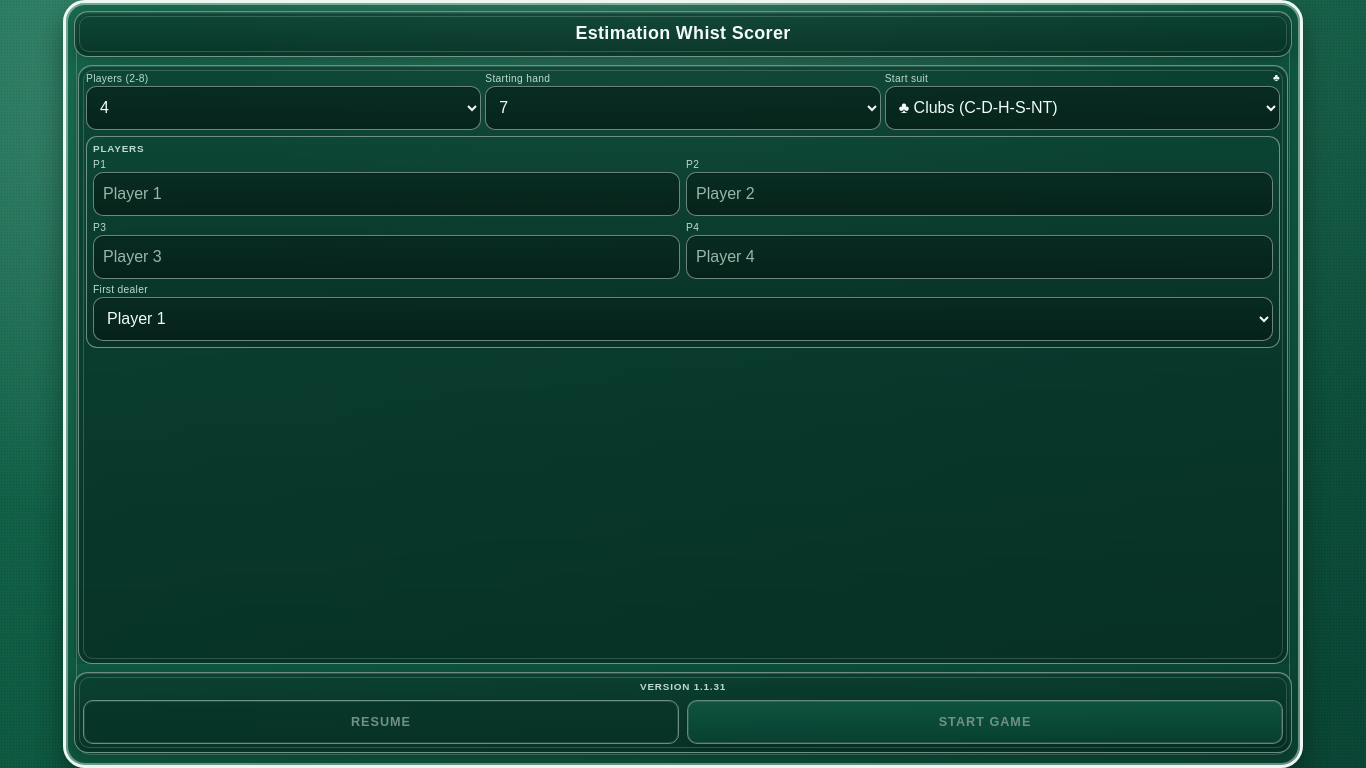
Test: App › renames the bidding back button to Undo
Type "Tom" into the field labelled "P1".
click(386, 194); type("Tom")  # box [93,172,680,216]
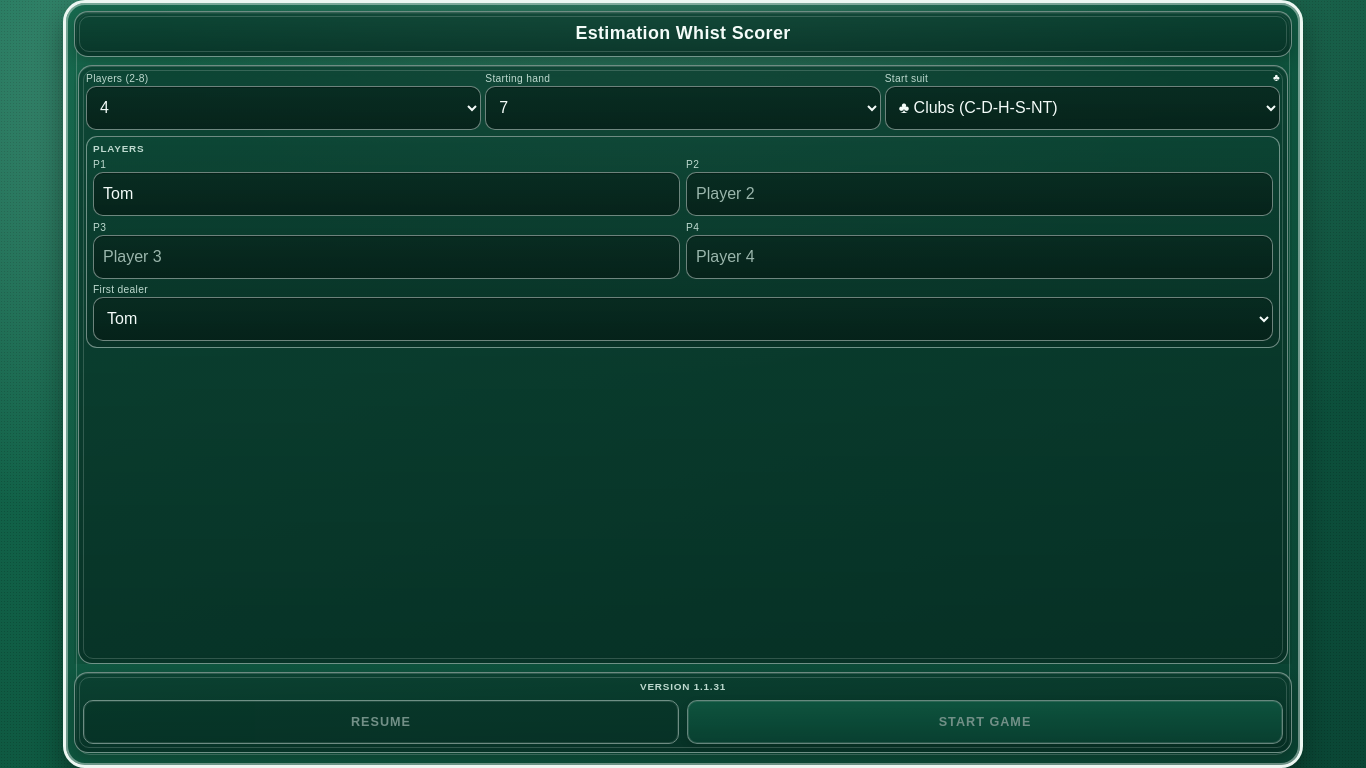
Type "Jane" into the field labelled "P2".
click(980, 194); type("Jane")  # box [686,172,1273,216]
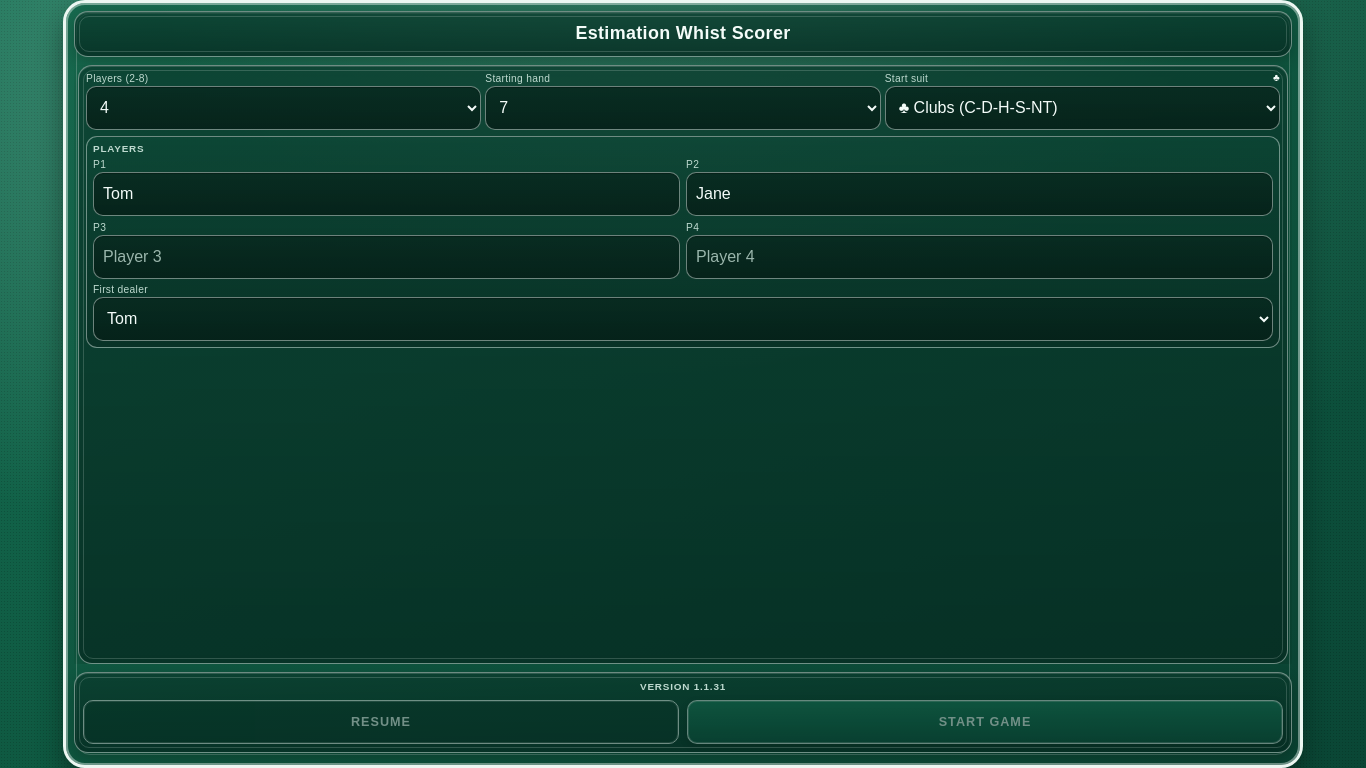
Type "Tristan" into the field labelled "P3".
click(386, 256); type("Tristan")  # box [93,234,680,278]
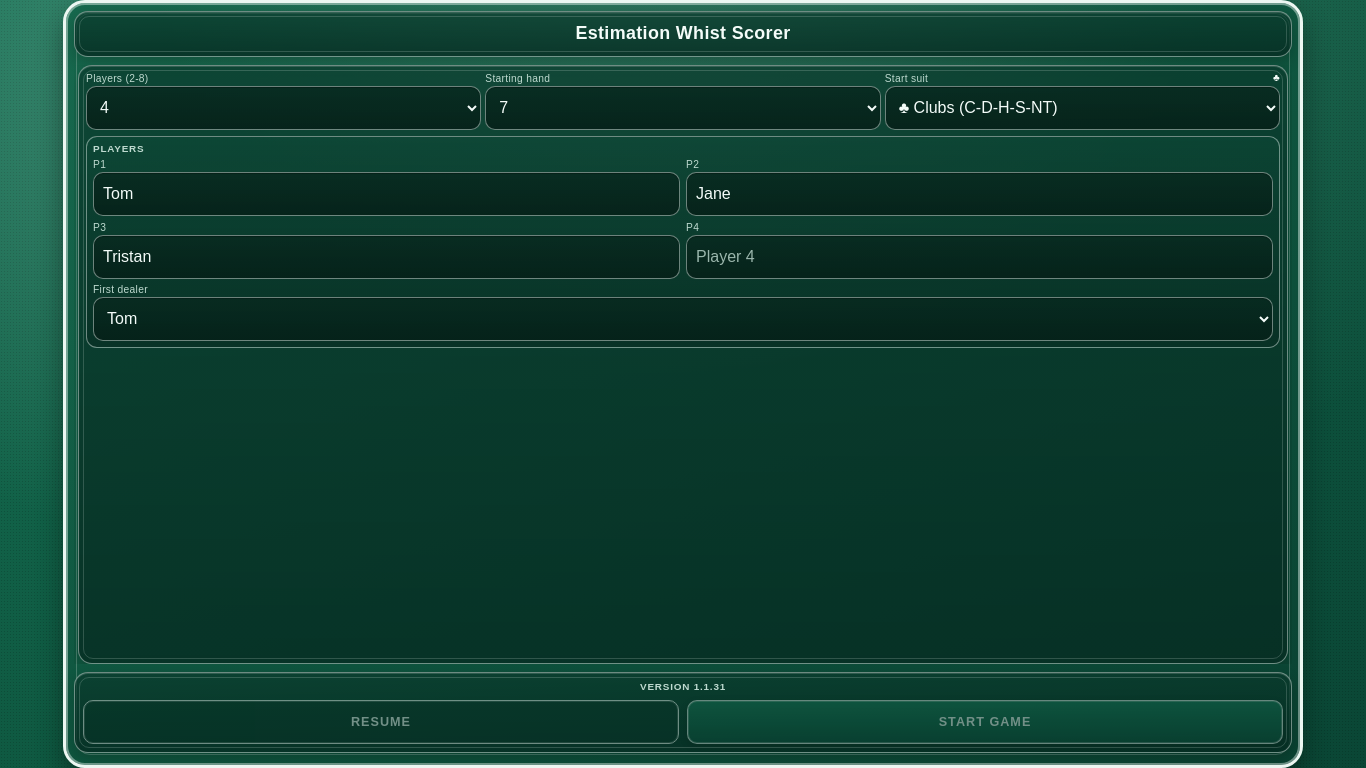
Type "Freya" into the field labelled "P4".
click(980, 256); type("Freya")  # box [686,234,1273,278]
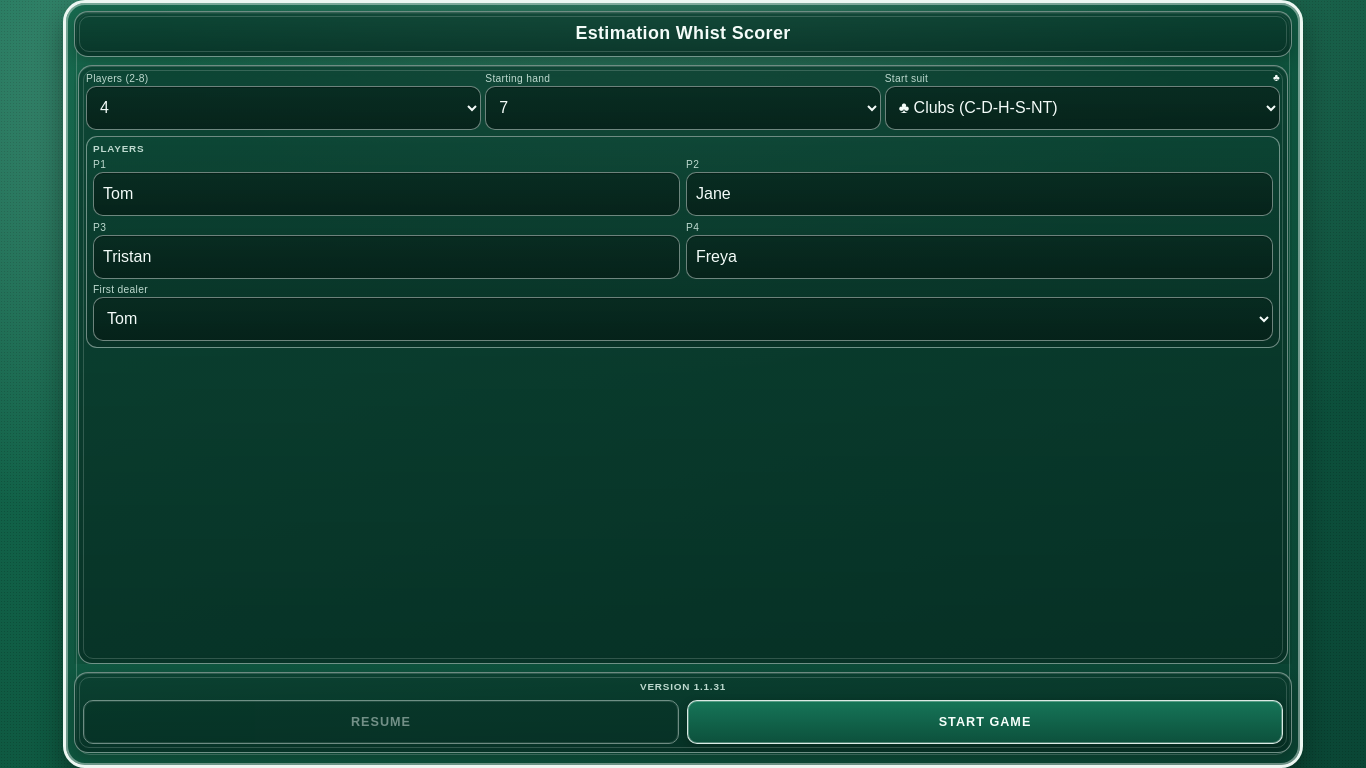
Click the button "Start Game".
click(985, 722)  # box [687,700,1283,744]
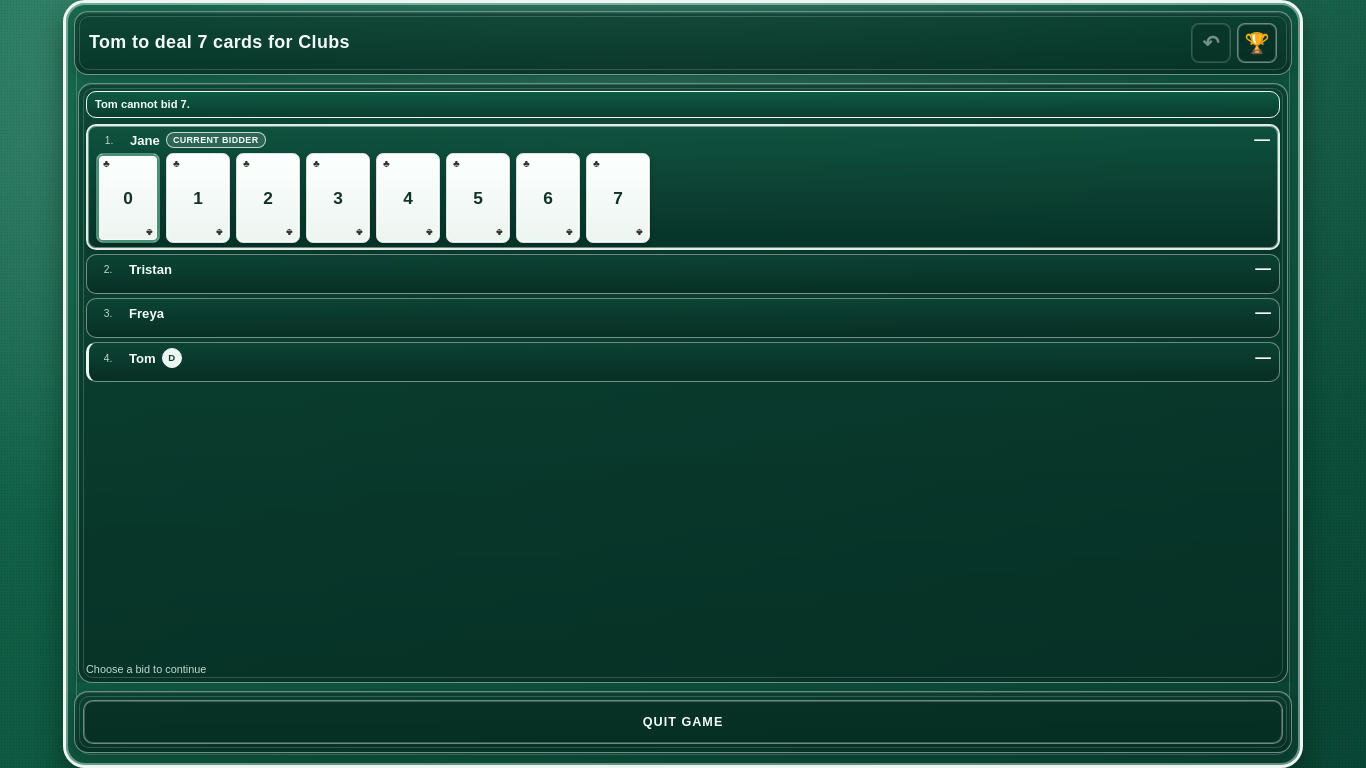
Expected: the button named "Undo" is shown, [1191,23,1231,63]
